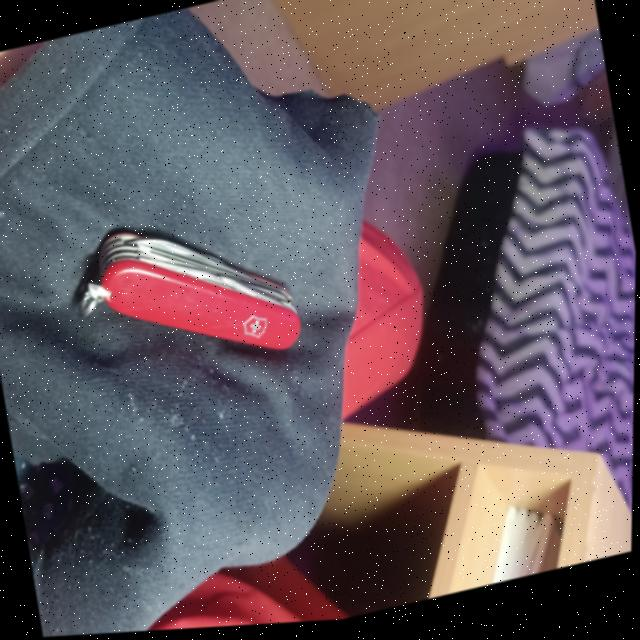knife victorinox: (81, 234, 300, 353)
